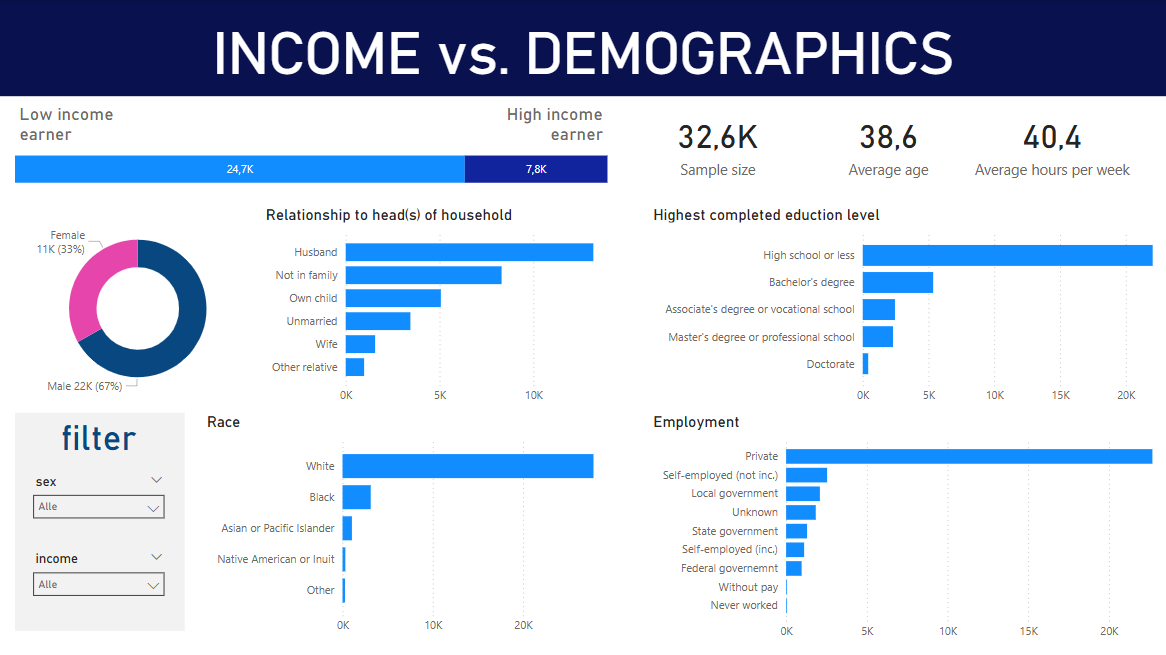

This screenshot's page, from the dashboard's own definition file:
{"tool":"powerbi","page":{"name":"income vs. demographics","canvas":[1280,720],"ordinal":0},"visuals":[{"type":"textbox","box":[0,0,1280.3,105.7],"z":0},{"type":"card","fields":{"Values":["CountNonNull(Sheet1.age)"]},"box":[694.3,111.1,188,93.3],"z":1000},{"type":"barChart","title":"Race","fields":{"Y":["CountNonNull(Sheet1.race)"],"Category":["Sheet1.race"]},"box":[222.3,452.8,444.6,252.5],"z":2000},{"type":"card","fields":{"Values":["Avg(Sheet1.age)"]},"box":[902.9,111.1,145.5,93.3],"z":3000},{"type":"card","fields":{"Values":["Avg(Sheet1.hours_per_week)"]},"box":[1048.4,111.1,214.1,93.3],"z":4000},{"type":"barChart","fields":{"Y":["Sheet1.LowShare","Sheet1.HighShare"]},"box":[16.5,153.7,650.4,56.3],"z":6000},{"type":"textbox","box":[16.5,109.8,186.6,57.6],"z":7000},{"type":"textbox","box":[507.7,109.8,159.2,57.6],"z":8000},{"type":"barChart","title":"Employment","fields":{"Category":["Sheet1.workclass"],"Y":["CountNonNull(Sheet1.workclass)"]},"box":[711.9,452.8,568.1,258],"z":9000},{"type":"barChart","title":"Highest completed eduction level","fields":{"Category":["Sheet1.education (groepen)"],"Y":["CountNonNull(Sheet1.education (groepen))"]},"box":[711.9,225,568.1,227.8],"z":10000},{"type":"barChart","title":"Relationship to head(s) of household","fields":{"Category":["Sheet1.relationship"],"Y":["CountNonNull(Sheet1.relationship)"]},"box":[286.8,225,380.1,227.8],"z":11000},{"type":"shape","box":[16.5,452.8,186.6,240.1],"z":12000},{"type":"slicer","fields":{"Values":["Sheet1.income"]},"box":[26.1,514.6,164.7,67.2],"z":13000},{"type":"textbox","box":[26.1,452.8,164.7,61.7],"z":14000},{"type":"slicer","fields":{"Values":["Sheet1.native_country"]},"box":[26.1,599.7,164.7,67.2],"z":15000},{"type":"donutChart","fields":{"Category":["Sheet1.sex"],"Y":["CountNonNull(Sheet1.sex)"]},"box":[16.5,225,270.3,227.8],"z":16000}]}

Visuals, with their boxes in screenshot pixels (x1, y1, x2, y2), scaled from the page's 1280x720 canvas onto the 1166x655 screenshot:
textbox: {"x1": 0, "y1": 0, "x2": 1165, "y2": 96}
card - CountNonNull(Sheet1.age): {"x1": 632, "y1": 101, "x2": 804, "y2": 186}
"Race" barChart: {"x1": 203, "y1": 412, "x2": 608, "y2": 642}
card - Avg(Sheet1.age): {"x1": 822, "y1": 101, "x2": 955, "y2": 186}
card - Avg(Sheet1.hours_per_week): {"x1": 955, "y1": 101, "x2": 1150, "y2": 186}
barChart - Sheet1.LowShare x Sheet1.HighShare: {"x1": 15, "y1": 140, "x2": 608, "y2": 191}
textbox: {"x1": 15, "y1": 100, "x2": 185, "y2": 152}
textbox: {"x1": 462, "y1": 100, "x2": 608, "y2": 152}
"Employment" barChart: {"x1": 648, "y1": 412, "x2": 1165, "y2": 647}
"Highest completed eduction level" barChart: {"x1": 648, "y1": 205, "x2": 1165, "y2": 412}
"Relationship to head(s) of household" barChart: {"x1": 261, "y1": 205, "x2": 608, "y2": 412}
shape: {"x1": 15, "y1": 412, "x2": 185, "y2": 630}
slicer - Sheet1.income: {"x1": 24, "y1": 468, "x2": 174, "y2": 529}
textbox: {"x1": 24, "y1": 412, "x2": 174, "y2": 468}
slicer - Sheet1.native_country: {"x1": 24, "y1": 546, "x2": 174, "y2": 607}
donutChart - Sheet1.sex x CountNonNull(Sheet1.sex): {"x1": 15, "y1": 205, "x2": 261, "y2": 412}
